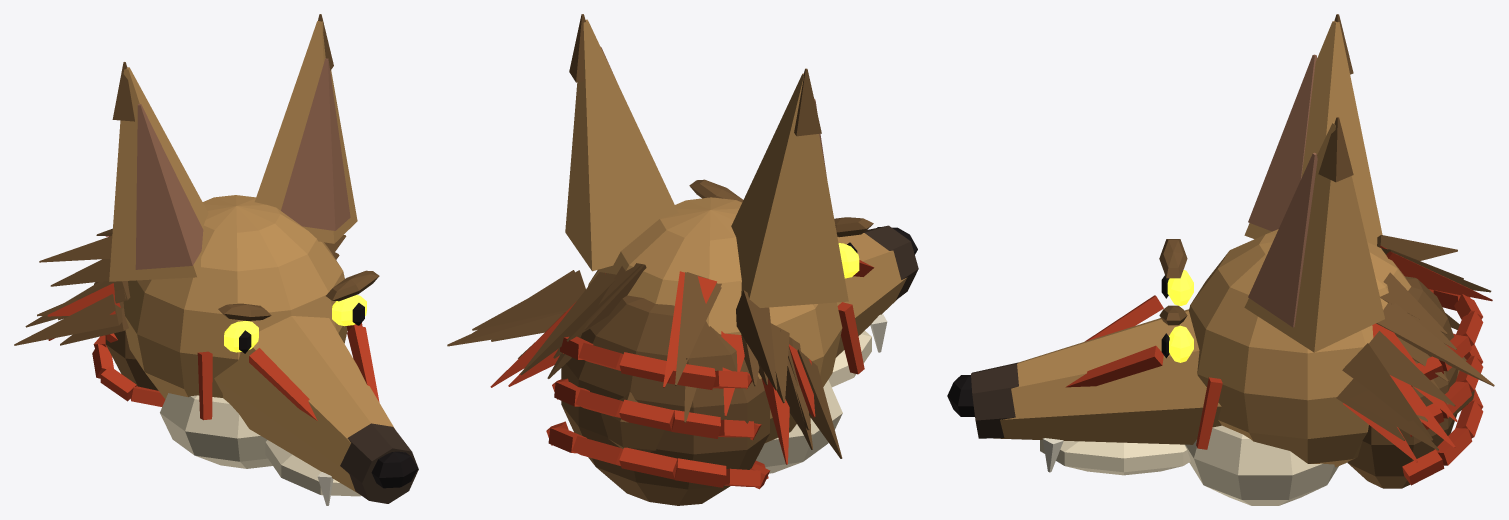
The model's file is dustpaw_chief_head.glb.
The picture shows the model from 3 angles, left to right: view 1: azimuth 30°, elevation 25°; view 2: azimuth 150°, elevation 25°; view 3: azimuth 270°, elevation 25°; orthographic projection. The views are drawn at different scales.
Visible parts, largest first — view 1: dustpaw_chief_head; view 2: dustpaw_chief_head; view 3: dustpaw_chief_head.
Boxes of the visible parts, box(x1,y1,x2,y2) form: dustpaw_chief_head: box(14, 14, 418, 505); dustpaw_chief_head: box(447, 14, 918, 505); dustpaw_chief_head: box(947, 14, 1494, 505).
Bounding box in the file's own units: 1.19 × 1.33 × 1.55.
